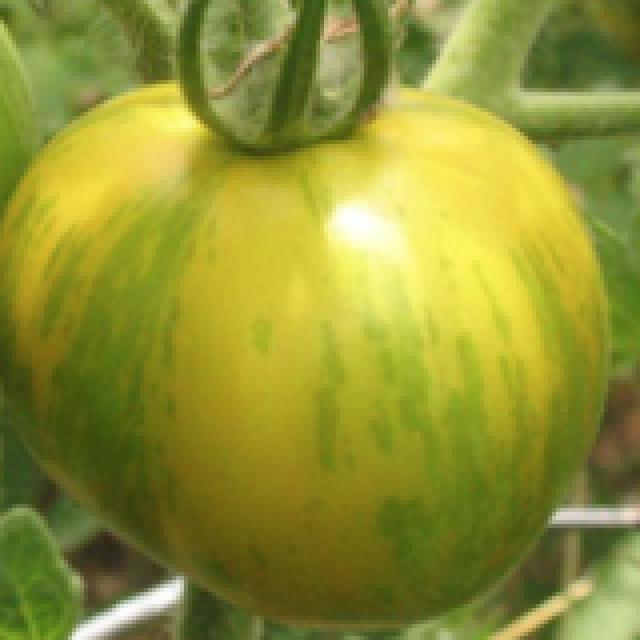yesil: (0, 2, 616, 613)
